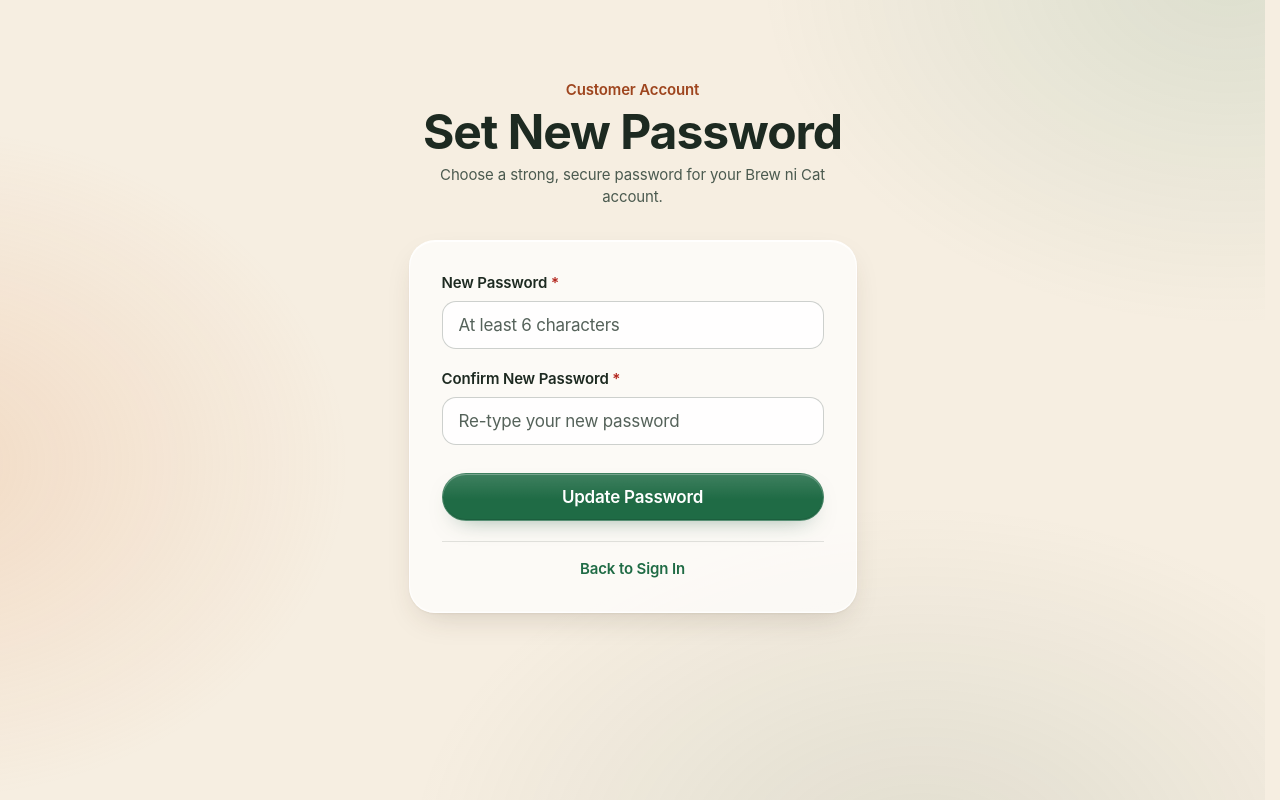
Scenario: Account Forms Component Tests › ResetPasswordView (FR-034) › TC-P4-171 — updates password when PASSWORD_RECOVERY event is present (FR-034)
Expected: the heading "Set New Password" is shown, [408,108,856,156]
Step 1. Type "BrandNewPassword123!" into the password field labelled "New Password *" → point(632, 325), box [442,301,824,349]
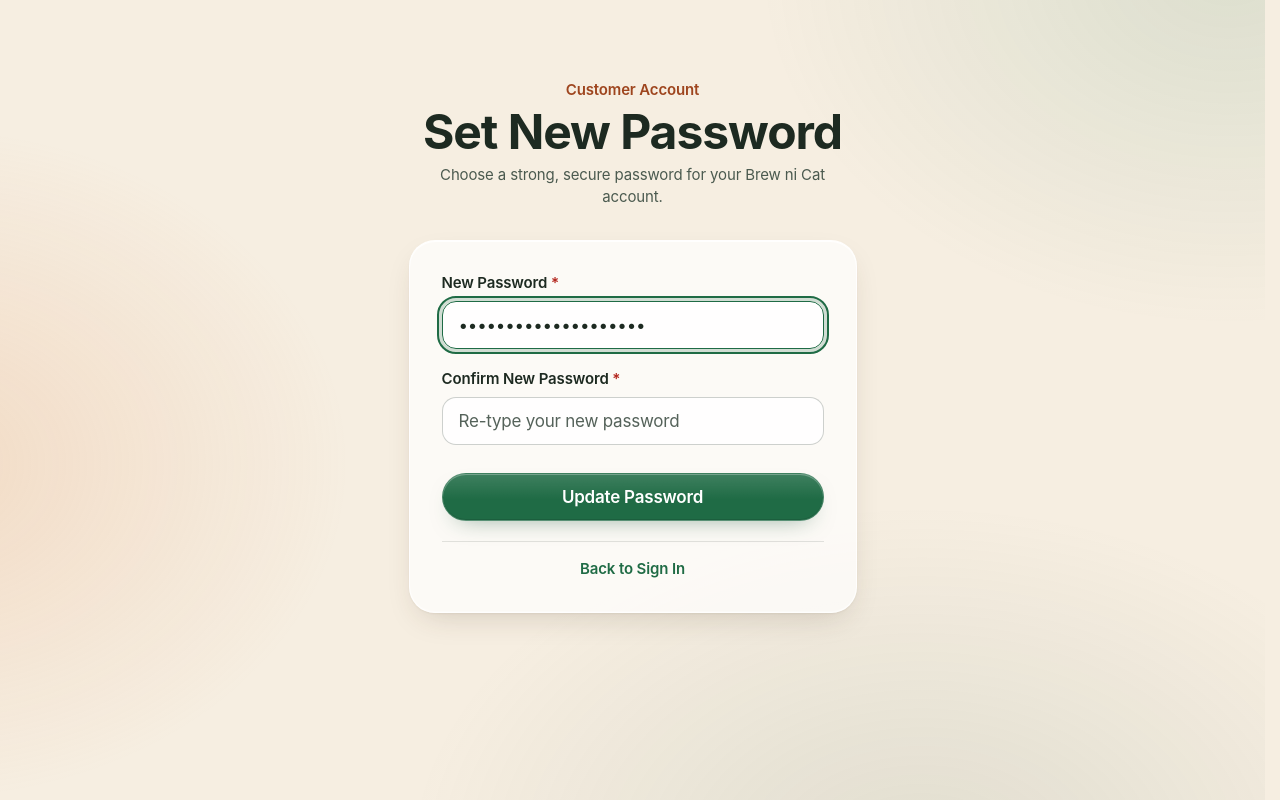
Step 2. Type "BrandNewPassword123!" into the password field labelled "Confirm New Password *" → point(632, 421), box [442,397,824,445]
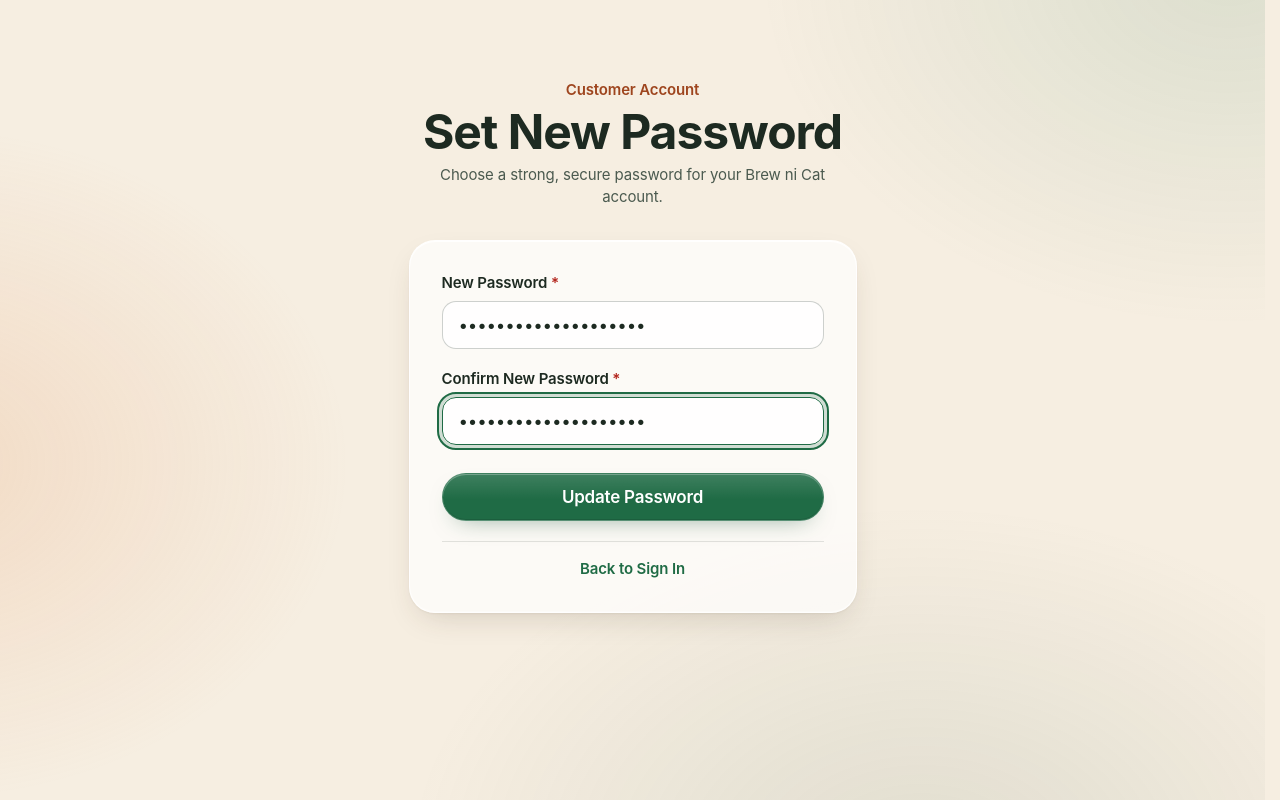
Step 3. Click the button "Update Password" → point(632, 497), box [442,473,824,521]
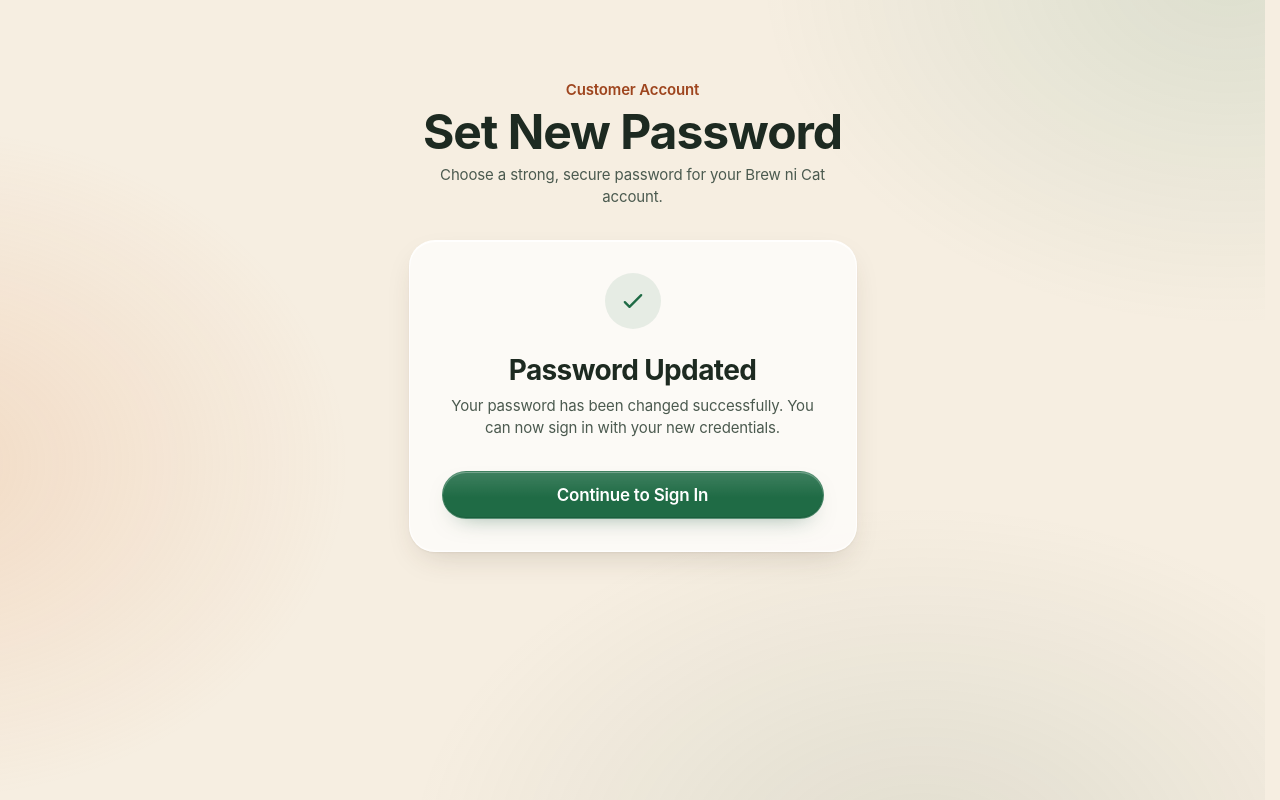
Expected: the heading "Password Updated" is shown, [509,353,756,387]
